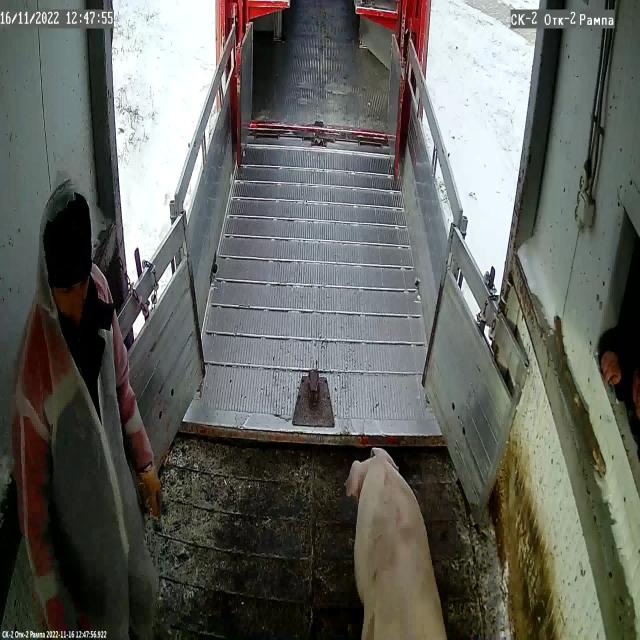pig: (344, 448, 448, 640)
